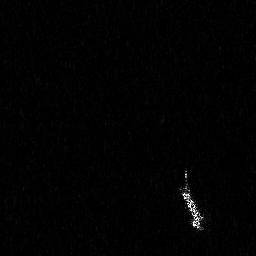ship: (176, 166, 209, 235)
